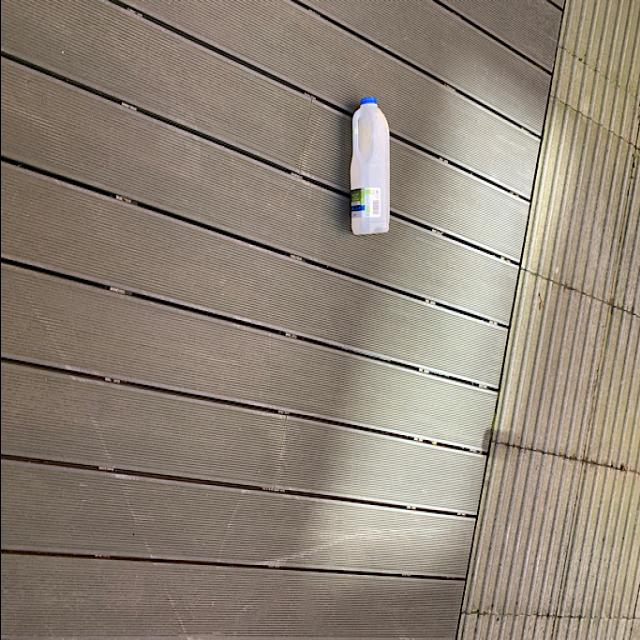HDPEM: (350, 92, 390, 242)
